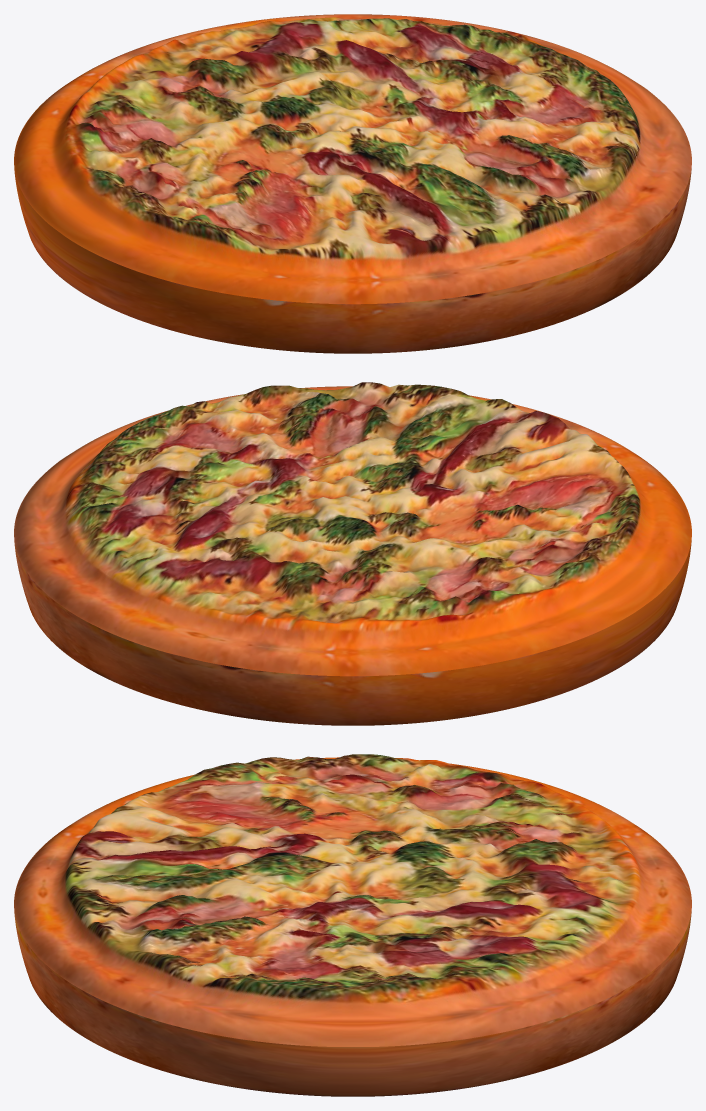
The model's file is brocoli-bacon.glb.
3 renders of one model, top to bottom at view 1: azimuth 30°, elevation 25°; view 2: azimuth 150°, elevation 25°; view 3: azimuth 270°, elevation 25°, orthographic.
Parts seen in each view (by area): view 1: Brócoli Bacon; view 2: Brócoli Bacon; view 3: Brócoli Bacon.
Part boxes in pixels (x1,y1,x2,y2): Brócoli Bacon: (14,14,691,353); Brócoli Bacon: (14,382,691,725); Brócoli Bacon: (14,754,691,1096).
Size of the model in its own units: 0.36 by 0.0549 by 0.36.
Materials: 2 (2 with a texture image).
